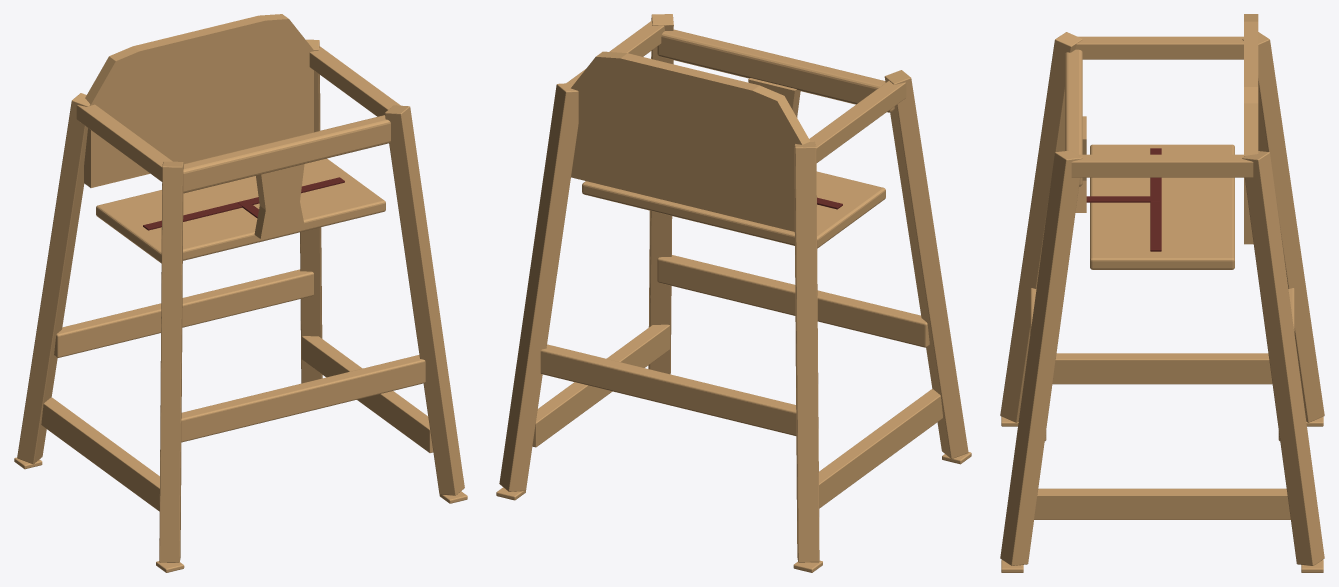
3 views of the same model, side by side, from view 1: azimuth 30°, elevation 25°; view 2: azimuth 150°, elevation 25°; view 3: azimuth 270°, elevation 25° (orthographic). The views are drawn at different scales.
Visible parts, largest first — view 1: Shaped back - qualitative outline, Documented seat width depth 17 x 9 at 20 inches, Splayed wood upright - qualitative.002, Splayed wood upright - qualitative, Splayed wood upright - qualitative.001, Cross stretcher - qualitative, Cross stretcher - qualitative.001, Front retaining rail - qualitative, Lower side stretcher, Lower side stretcher.001, Crotch divider - qualitative, Splayed wood upright - qualitative.003 (+3 smaller); view 2: Shaped back - qualitative outline, Splayed wood upright - qualitative.003, Splayed wood upright - qualitative, Splayed wood upright - qualitative.001, Cross stretcher - qualitative.001, Cross stretcher - qualitative, Front retaining rail - qualitative, Documented seat width depth 17 x 9 at 20 inches, Lower side stretcher, Lower side stretcher.001, Splayed wood upright - qualitative.002, Side arm at documented 27 inch datum (+1 smaller); view 3: Documented seat width depth 17 x 9 at 20 inches, Splayed wood upright - qualitative.002, Splayed wood upright - qualitative.003, Lower side stretcher.001, Splayed wood upright - qualitative, Splayed wood upright - qualitative.001, Lower side stretcher, Side arm at documented 27 inch datum.001, Side arm at documented 27 inch datum, Shaped back - qualitative outline, Front retaining rail - qualitative, Restraint lap webbing - illustrative (+2 smaller).
Part boxes in pixels (<box>): Shaped back - qualitative outline: <box>84,14,313,187</box>; Documented seat width depth 17 x 9 at 20 inches: <box>96,158,385,263</box>; Splayed wood upright - qualitative.002: <box>384,105,464,495</box>; Splayed wood upright - qualitative: <box>159,161,183,562</box>; Splayed wood upright - qualitative.001: <box>17,93,90,464</box>; Cross stretcher - qualitative: <box>181,355,425,442</box>; Cross stretcher - qualitative.001: <box>54,269,313,357</box>; Front retaining rail - qualitative: <box>183,115,390,193</box>; Lower side stretcher: <box>41,397,159,511</box>; Lower side stretcher.001: <box>302,336,433,452</box>; Crotch divider - qualitative: <box>254,164,304,238</box>; Splayed wood upright - qualitative.003: <box>300,39,322,383</box>; Shaped back - qualitative outline: <box>571,51,810,231</box>; Splayed wood upright - qualitative.003: <box>499,83,578,491</box>; Splayed wood upright - qualitative: <box>884,70,968,458</box>; Splayed wood upright - qualitative.001: <box>794,142,819,562</box>; Cross stretcher - qualitative.001: <box>540,344,796,435</box>; Cross stretcher - qualitative: <box>657,255,929,347</box>; Front retaining rail - qualitative: <box>657,29,894,112</box>; Documented seat width depth 17 x 9 at 20 inches: <box>582,171,885,248</box>; Lower side stretcher: <box>819,389,942,508</box>; Lower side stretcher.001: <box>532,324,669,447</box>; Splayed wood upright - qualitative.002: <box>648,14,673,374</box>; Side arm at documented 27 inch datum: <box>809,81,906,162</box>; Documented seat width depth 17 x 9 at 20 inches: <box>1090,144,1234,269</box>; Splayed wood upright - qualitative.002: <box>1000,150,1082,565</box>; Splayed wood upright - qualitative.003: <box>1242,151,1324,565</box>; Lower side stretcher.001: <box>1034,488,1290,519</box>; Splayed wood upright - qualitative: <box>1000,32,1082,422</box>; Splayed wood upright - qualitative.001: <box>1242,32,1324,422</box>; Lower side stretcher: <box>1052,353,1272,384</box>; Side arm at documented 27 inch datum.001: <box>1071,154,1253,177</box>; Side arm at documented 27 inch datum: <box>1075,36,1243,59</box>; Shaped back - qualitative outline: <box>1244,14,1258,244</box>; Front retaining rail - qualitative: <box>1065,49,1082,186</box>; Restraint lap webbing - illustrative: <box>1150,148,1161,251</box>.
Bounding box in the file's own units: 0.5842 × 0.762 × 0.508.
